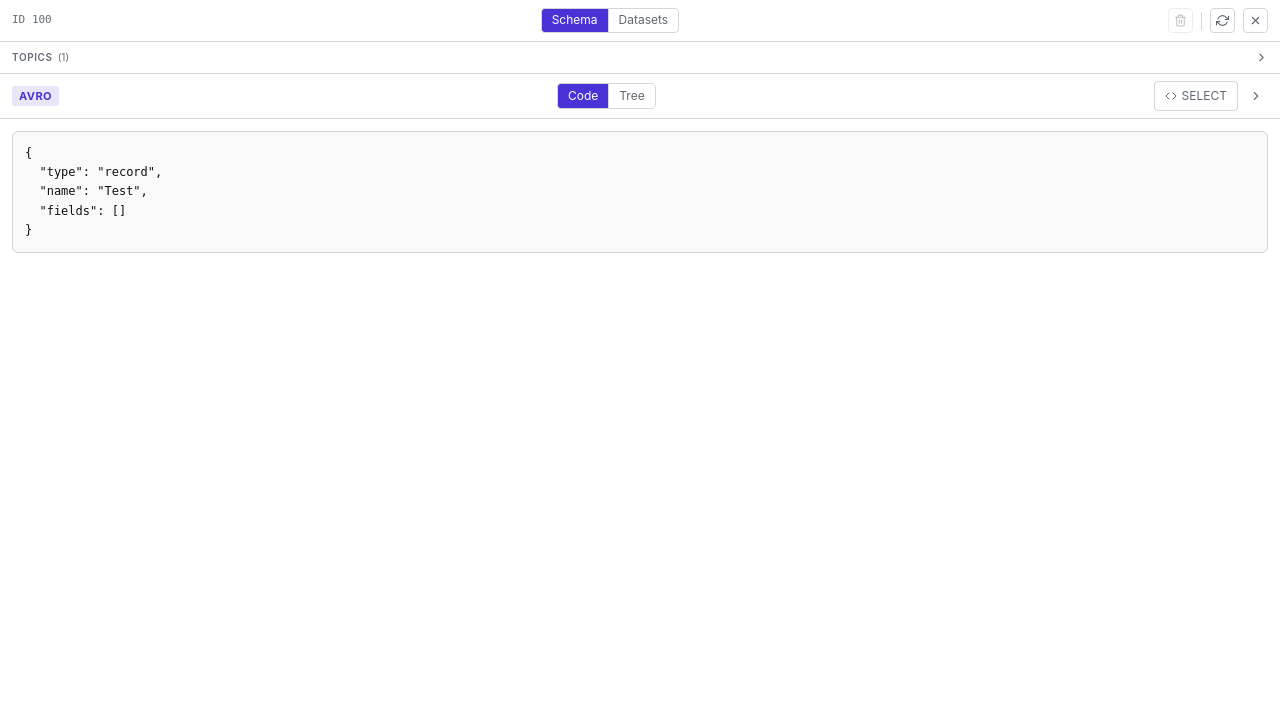
Test: [@schema-topics] Topics section in SchemaDetail › 1b. Topics section shows collapsed stub in edit mode
Click the text "Topics": (32, 58) x1=12 y1=50 x2=53 y2=65
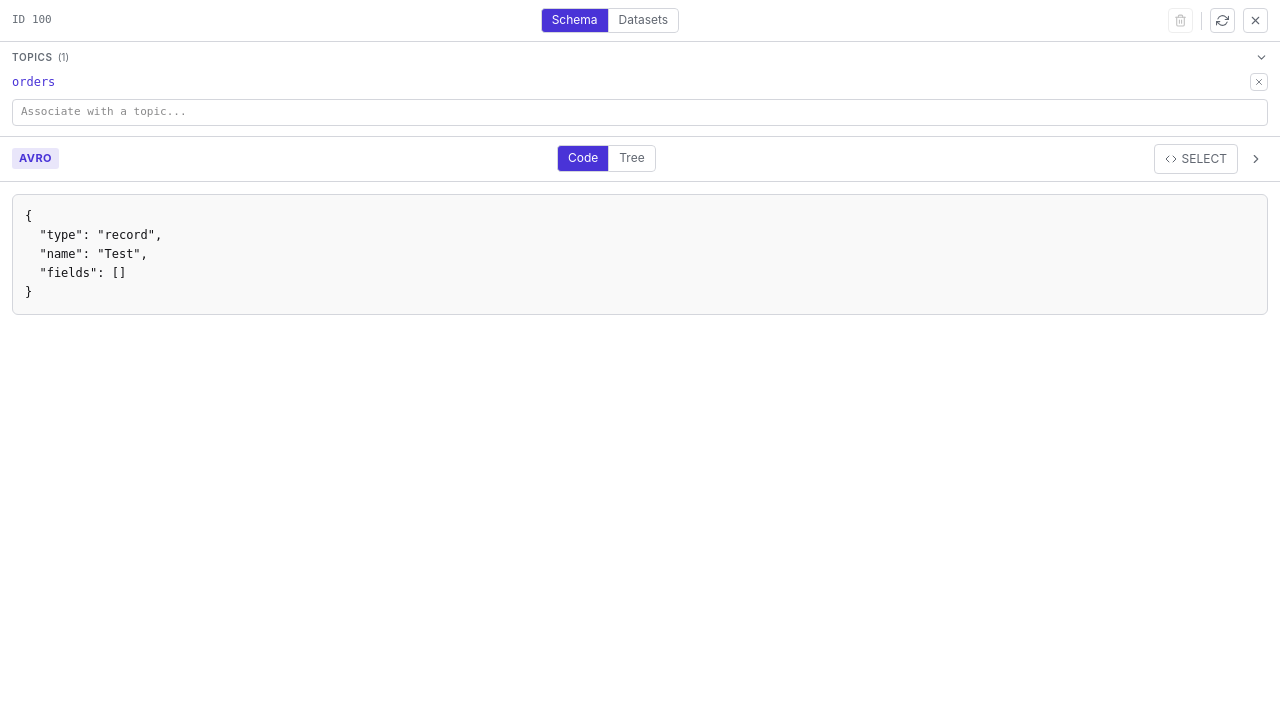
expect the button "orders" is shown: met, box x1=12 y1=73 x2=1244 y2=91
Click the button named "Toggle schema controls": (1256, 158) x1=1244 y1=146 x2=1268 y2=170
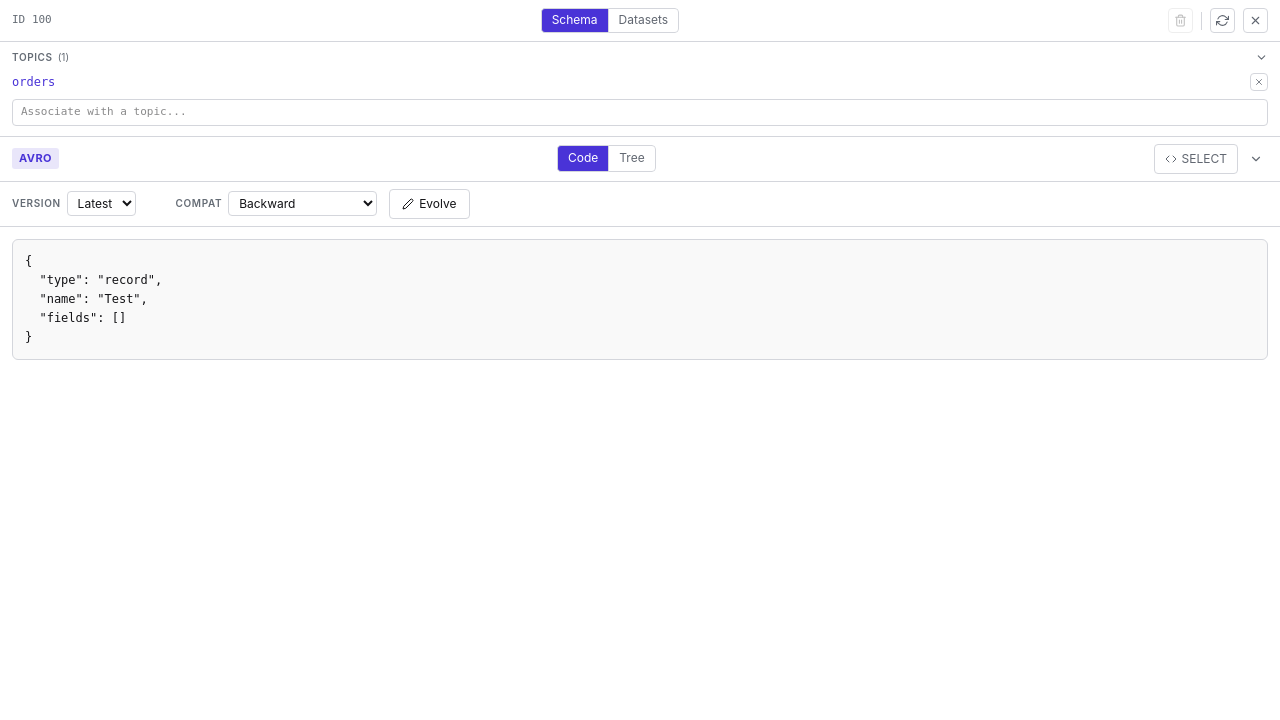
Click the button with aria-label "Evolve schema": (429, 204) x1=389 y1=188 x2=470 y2=218
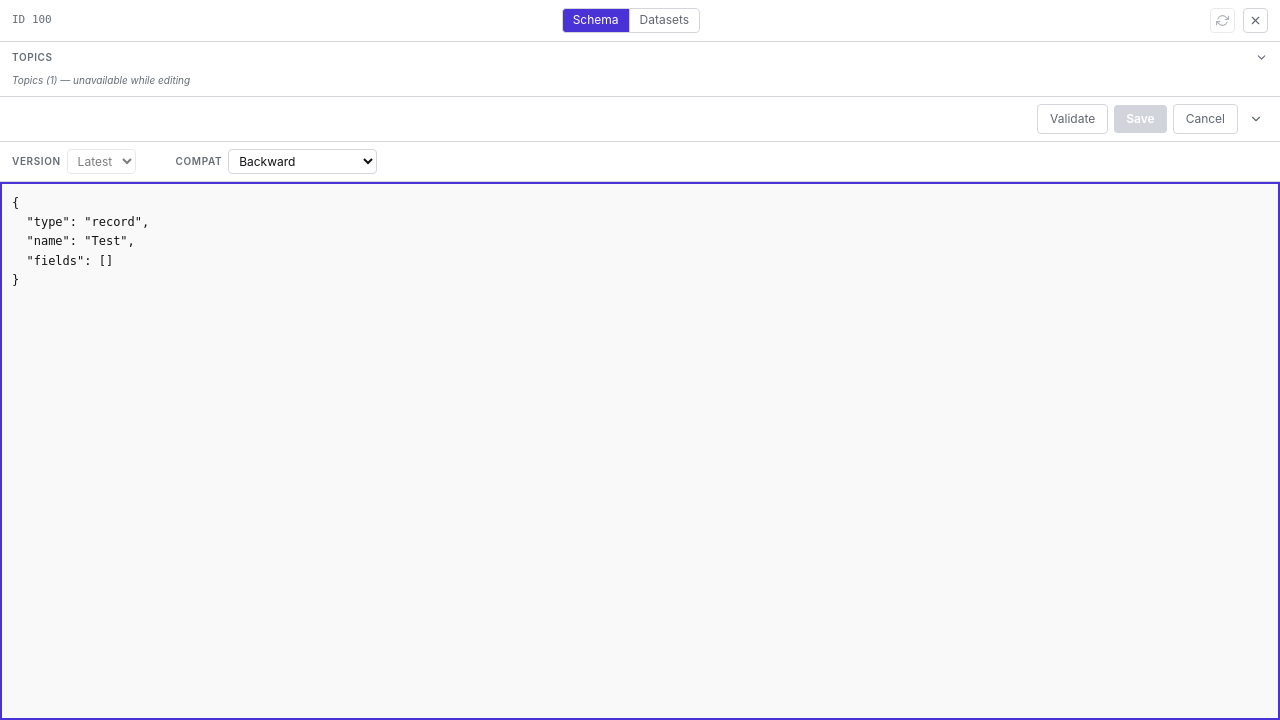
expect the text "Topics (1) — unavailable while editing" is shown: met, box x1=12 y1=74 x2=190 y2=86
